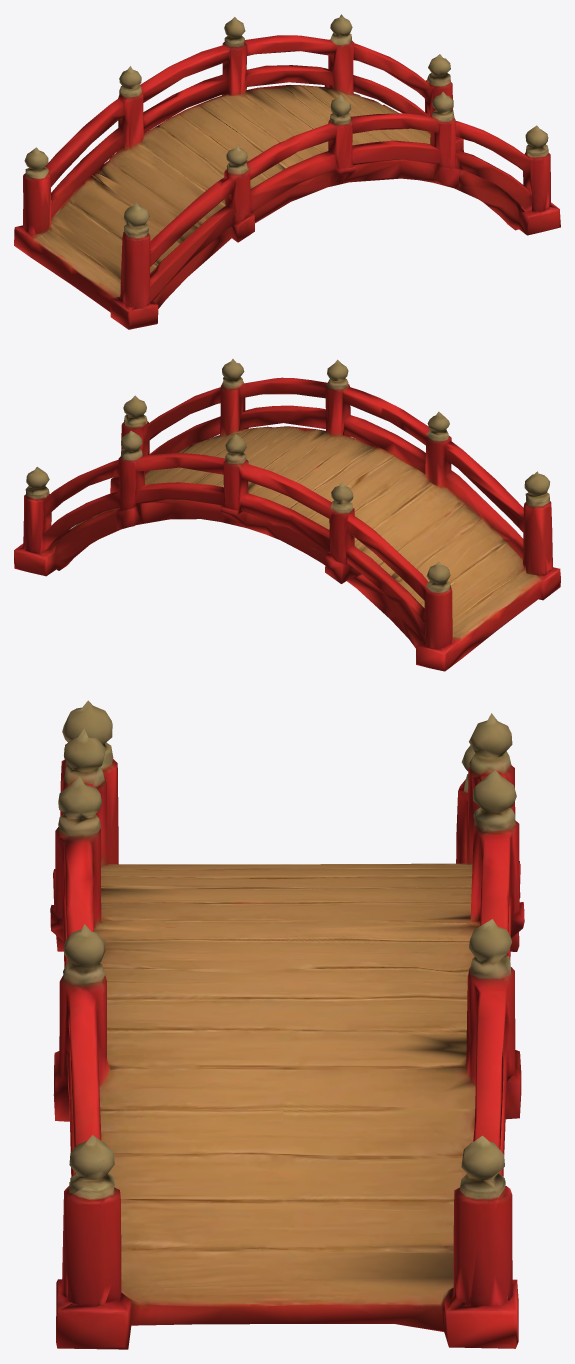
File: taiko_bridge.glb
3 renders of one model, top to bottom at view 1: azimuth 30°, elevation 25°; view 2: azimuth 150°, elevation 25°; view 3: azimuth 270°, elevation 25°, orthographic. The views are drawn at different scales.
Visible parts, largest first — view 1: taiko_bridge; view 2: taiko_bridge; view 3: taiko_bridge.
Part boxes in pixels (box(x1,y1,x2,y2)): taiko_bridge: box(14, 14, 560, 329); taiko_bridge: box(14, 359, 560, 671); taiko_bridge: box(50, 700, 524, 1349).
Size of the model in its own units: 0.9793 by 0.397 by 0.4627.
1 material, 1 textured.
